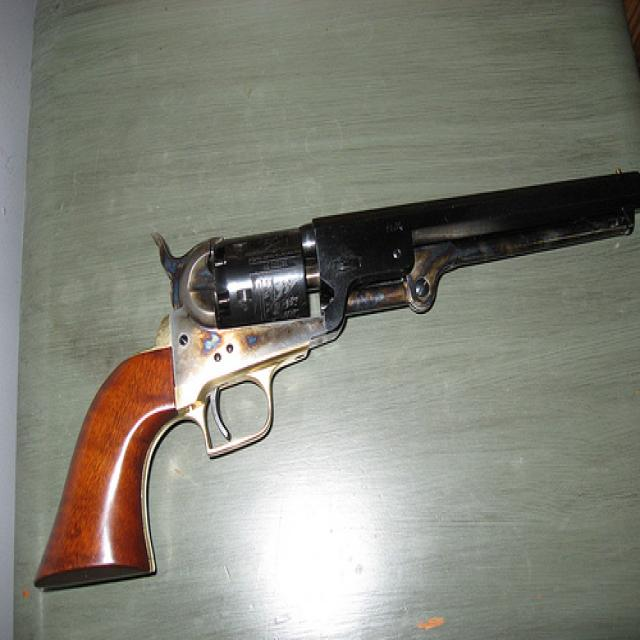gun: (32, 162, 636, 592)
